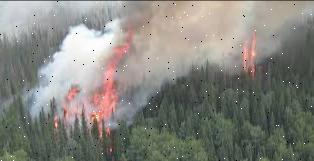fire: (29, 18, 156, 144), (219, 28, 276, 78)
